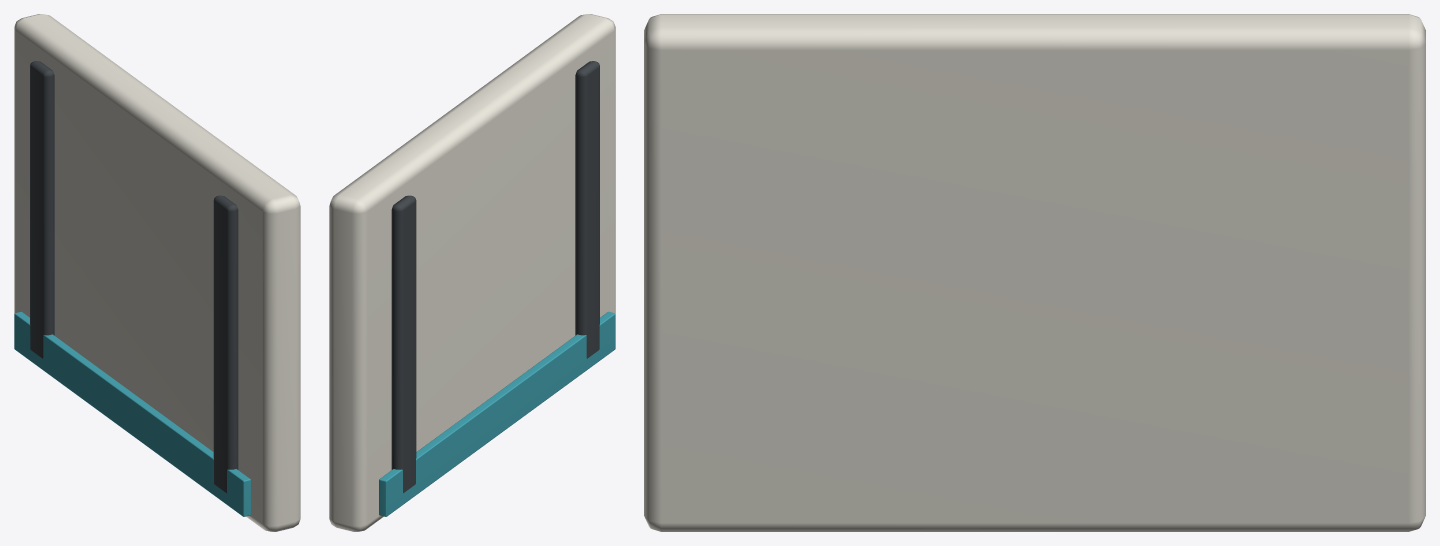
Rendered from SM_OrionExchange_Ramp.fbx.
3 views of the same model, side by side, from view 1: azimuth 30°, elevation 25°; view 2: azimuth 150°, elevation 25°; view 3: azimuth 270°, elevation 25° (orthographic). The views are drawn at different scales.
Parts seen in each view (by area): view 1: SM_OrionExchange_Ramp.001; view 2: SM_OrionExchange_Ramp.001; view 3: SM_OrionExchange_Ramp.001.
Part boxes in pixels (<box>): SM_OrionExchange_Ramp.001: <box>14,14,300,531</box>; SM_OrionExchange_Ramp.001: <box>329,14,615,531</box>; SM_OrionExchange_Ramp.001: <box>644,14,1425,531</box>.
Size of the model in its own units: 960 by 9000 by 6400.
